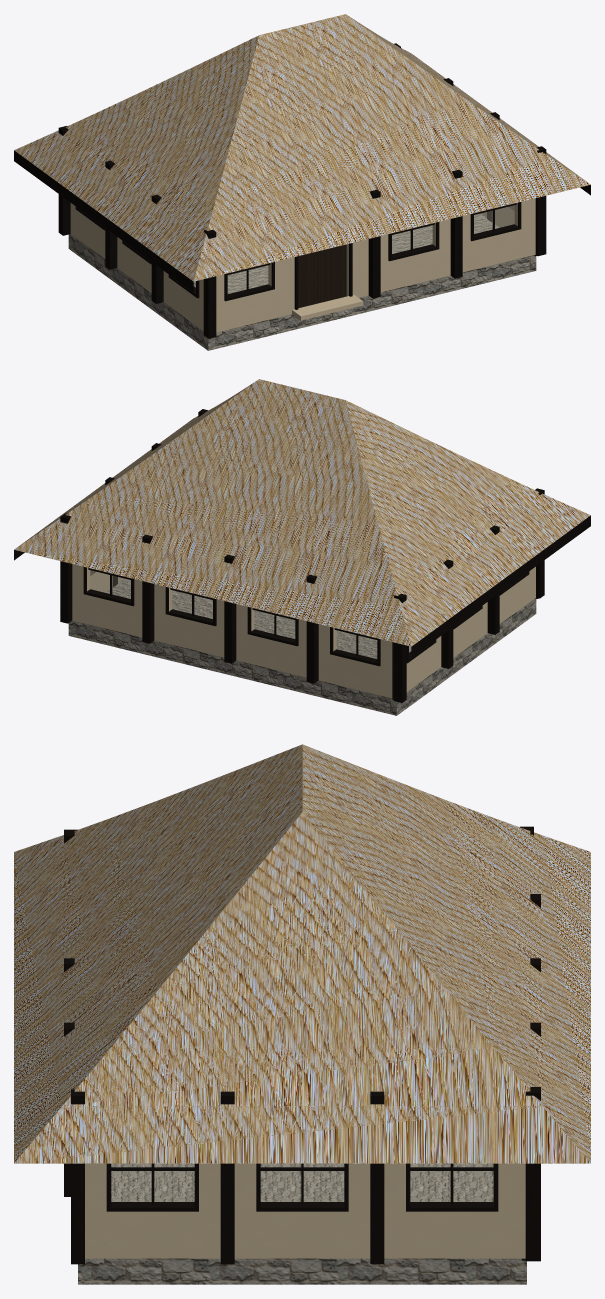
Rendered from jp_minka_01.glb.
The picture shows the model from 3 angles, top to bottom: view 1: azimuth 30°, elevation 25°; view 2: azimuth 150°, elevation 25°; view 3: azimuth 270°, elevation 25°; orthographic projection. The views are drawn at different scales.
Visible parts, largest first — view 1: jp_minka_01; view 2: jp_minka_01; view 3: jp_minka_01.
Part boxes in pixels (box(x1,y1,x2,y2)): jp_minka_01: box(14, 14, 590, 350); jp_minka_01: box(14, 379, 590, 715); jp_minka_01: box(14, 744, 590, 1284).
Bounding box in the file's own units: 11.5 × 6.5 × 9.
Materials: 6 (5 with a texture image).
